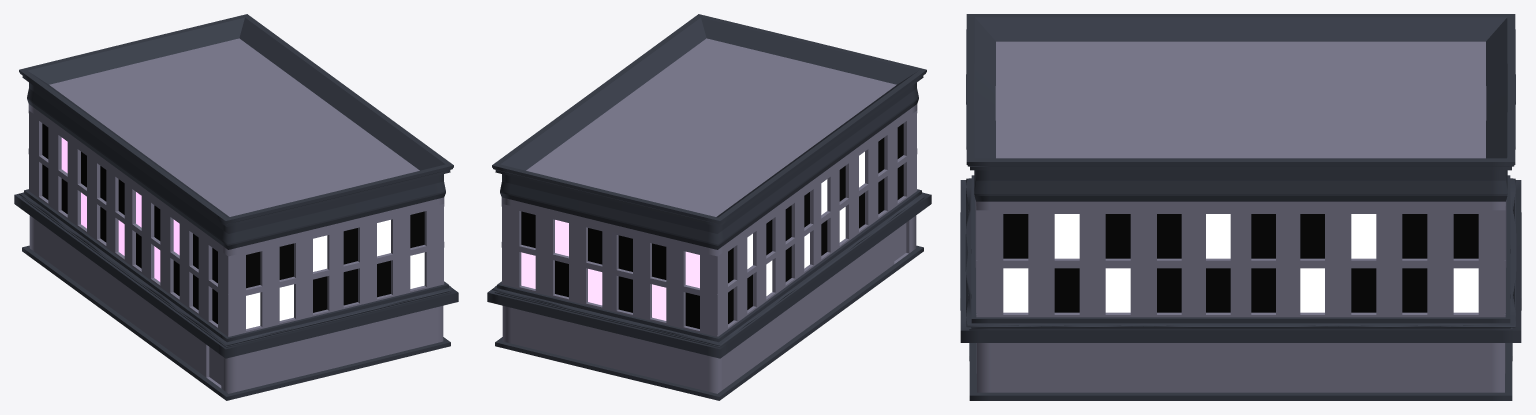
File: Building2 pink.fbx
3 renders of one model, left to right at view 1: azimuth 30°, elevation 25°; view 2: azimuth 150°, elevation 25°; view 3: azimuth 270°, elevation 25°, orthographic. The views are drawn at different scales.
Parts seen in each view (by area): view 1: Object001.002; view 2: Object001.002; view 3: Object001.002.
Boxes of the visible parts, box(x1,y1,x2,y2) form: Object001.002: box(14, 14, 458, 400); Object001.002: box(487, 14, 931, 400); Object001.002: box(960, 14, 1521, 400).
Size of the model in its own units: 4189 by 3115 by 6596.
